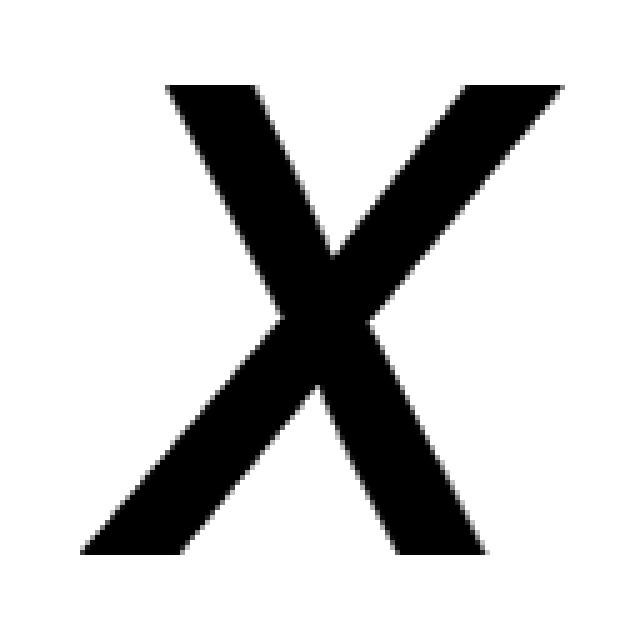X: (75, 75, 565, 560)
